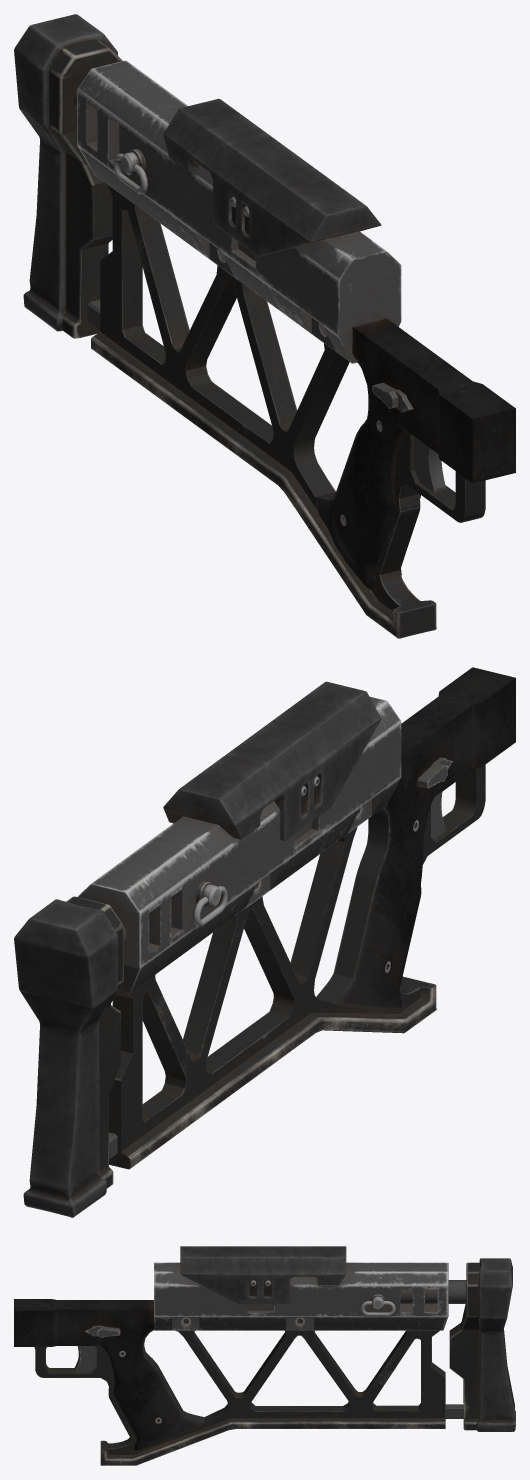
The model's file is Stock_Precision_4.glb.
The picture shows the model from 3 angles, top to bottom: view 1: azimuth 30°, elevation 25°; view 2: azimuth 150°, elevation 25°; view 3: azimuth 270°, elevation 25°; orthographic projection. The views are drawn at different scales.
Parts seen in each view (by area): view 1: Stock_Precision_4; view 2: Stock_Precision_4; view 3: Stock_Precision_4.
Part boxes in pixels (<box>): Stock_Precision_4: <box>14,14,515,638</box>; Stock_Precision_4: <box>14,667,515,1217</box>; Stock_Precision_4: <box>14,1246,515,1465</box>.
Size of the model in its own units: 0.0473 by 0.1829 by 0.398.
1 material, 1 textured.
